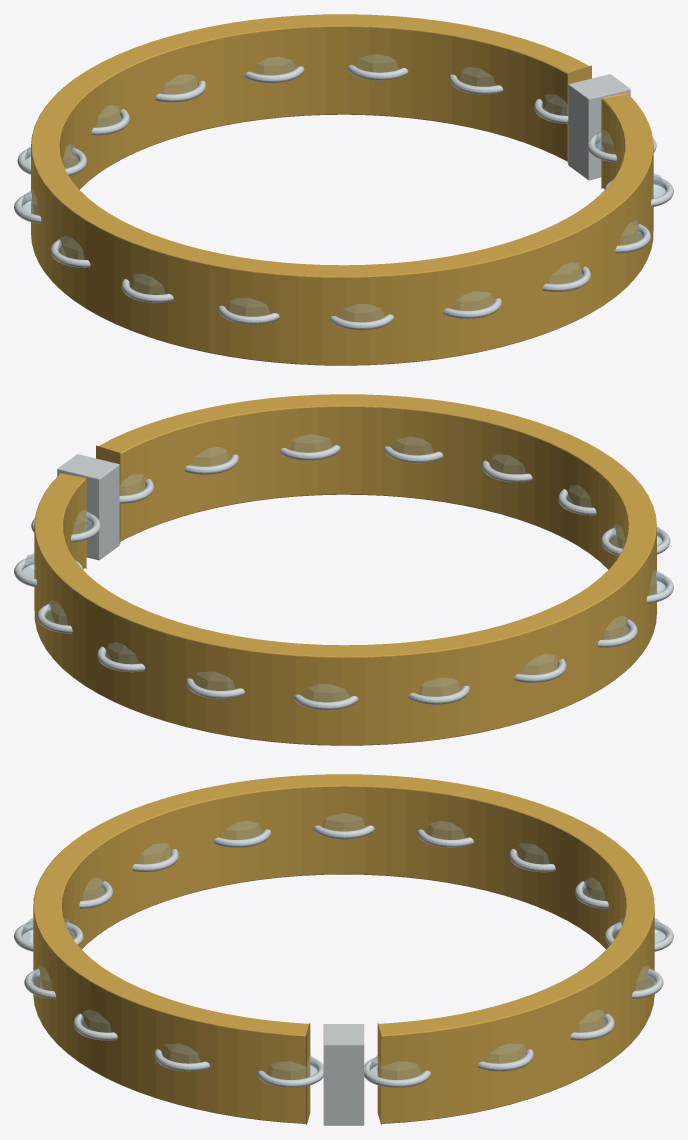
3 renders of one model, top to bottom at view 1: azimuth 30°, elevation 25°; view 2: azimuth 150°, elevation 25°; view 3: azimuth 270°, elevation 25°, orthographic.
Visible parts, largest first — view 1: TI023 / pierced gold collar, TI023 / white gold clasp, TI023 / blue opal setting 11, TI023 / blue opal setting 10, TI023 / blue opal setting 12, TI023 / blue opal setting 2, TI023 / blue opal setting 3, TI023 / white gold opal rim.011, TI023 / white gold opal rim.010, TI023 / white gold opal rim.006, TI023 / blue opal setting 1, TI023 / blue opal setting 9 (+3 smaller); view 2: TI023 / pierced gold collar, TI023 / white gold clasp, TI023 / blue opal setting 5, TI023 / blue opal setting 6, TI023 / blue opal setting 4, TI023 / blue opal setting 14, TI023 / blue opal setting 13, TI023 / white gold opal rim.005, TI023 / white gold opal rim.006, TI023 / white gold opal rim.010, TI023 / blue opal setting 15, TI023 / blue opal setting 7 (+3 smaller); view 3: TI023 / pierced gold collar, TI023 / white gold clasp, TI023 / blue opal setting 0, TI023 / blue opal setting 16, TI023 / white gold opal rim, TI023 / white gold opal rim.016, TI023 / blue opal setting 8, TI023 / blue opal setting 1, TI023 / blue opal setting 15, TI023 / white gold opal rim.004, TI023 / white gold opal rim.012, TI023 / blue opal setting 7 (+2 smaller).
Part boxes in pixels (bbox=[...]): TI023 / pierced gold collar: bbox=[31, 14, 653, 365]; TI023 / white gold clasp: bbox=[568, 74, 630, 180]; TI023 / blue opal setting 11: bbox=[339, 304, 384, 321]; TI023 / blue opal setting 10: bbox=[227, 298, 269, 316]; TI023 / blue opal setting 12: bbox=[453, 291, 493, 310]; TI023 / blue opal setting 2: bbox=[356, 54, 397, 72]; TI023 / blue opal setting 3: bbox=[254, 57, 295, 74]; TI023 / white gold opal rim.011: bbox=[329, 314, 394, 330]; TI023 / white gold opal rim.010: bbox=[218, 305, 279, 324]; TI023 / white gold opal rim.006: bbox=[17, 147, 86, 175]; TI023 / blue opal setting 1: bbox=[458, 67, 495, 86]; TI023 / blue opal setting 9: bbox=[129, 274, 164, 294]; TI023 / pierced gold collar: bbox=[34, 394, 656, 745]; TI023 / white gold clasp: bbox=[57, 454, 119, 560]; TI023 / blue opal setting 5: bbox=[303, 684, 348, 701]; TI023 / blue opal setting 6: bbox=[418, 678, 460, 696]; TI023 / blue opal setting 4: bbox=[194, 671, 234, 690]; TI023 / blue opal setting 14: bbox=[290, 434, 331, 452]; TI023 / blue opal setting 13: bbox=[392, 437, 433, 454]; TI023 / white gold opal rim.005: bbox=[293, 694, 358, 710]; TI023 / white gold opal rim.006: bbox=[408, 685, 469, 704]; TI023 / white gold opal rim.010: bbox=[601, 527, 670, 555]; TI023 / blue opal setting 15: bbox=[192, 447, 229, 466]; TI023 / blue opal setting 7: bbox=[523, 654, 558, 674]; TI023 / pierced gold collar: bbox=[33, 774, 654, 1124]; TI023 / white gold clasp: bbox=[323, 1024, 364, 1125]; TI023 / blue opal setting 0: bbox=[369, 1055, 420, 1079]; TI023 / blue opal setting 16: bbox=[267, 1055, 318, 1079]; TI023 / white gold opal rim: bbox=[364, 1057, 430, 1087]; TI023 / white gold opal rim.016: bbox=[257, 1057, 323, 1087]; TI023 / blue opal setting 8: bbox=[323, 813, 364, 830]; TI023 / blue opal setting 1: bbox=[487, 1043, 526, 1063]; TI023 / blue opal setting 15: bbox=[161, 1043, 200, 1063]; TI023 / white gold opal rim.004: bbox=[604, 921, 673, 951]; TI023 / white gold opal rim.012: bbox=[14, 921, 83, 951]; TI023 / blue opal setting 7: bbox=[426, 821, 464, 839].
Bounding box in the file's own units: 3.22 × 0.489 × 3.23.
